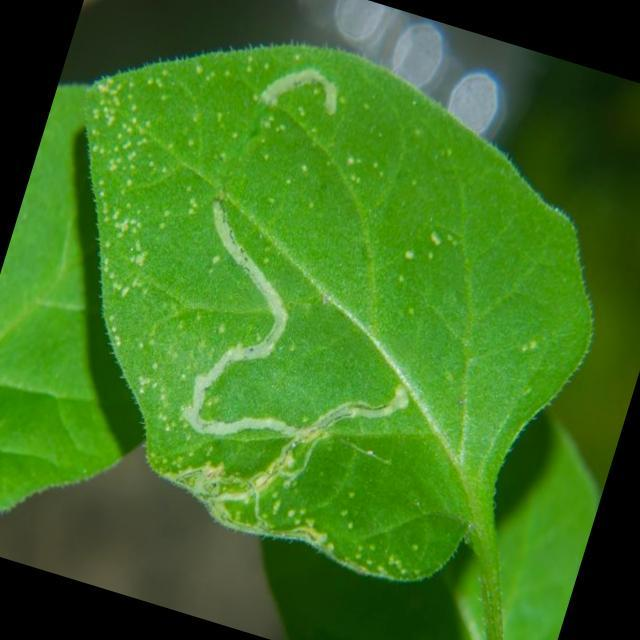Tomato target spot leaf: (0, 0, 640, 619)
